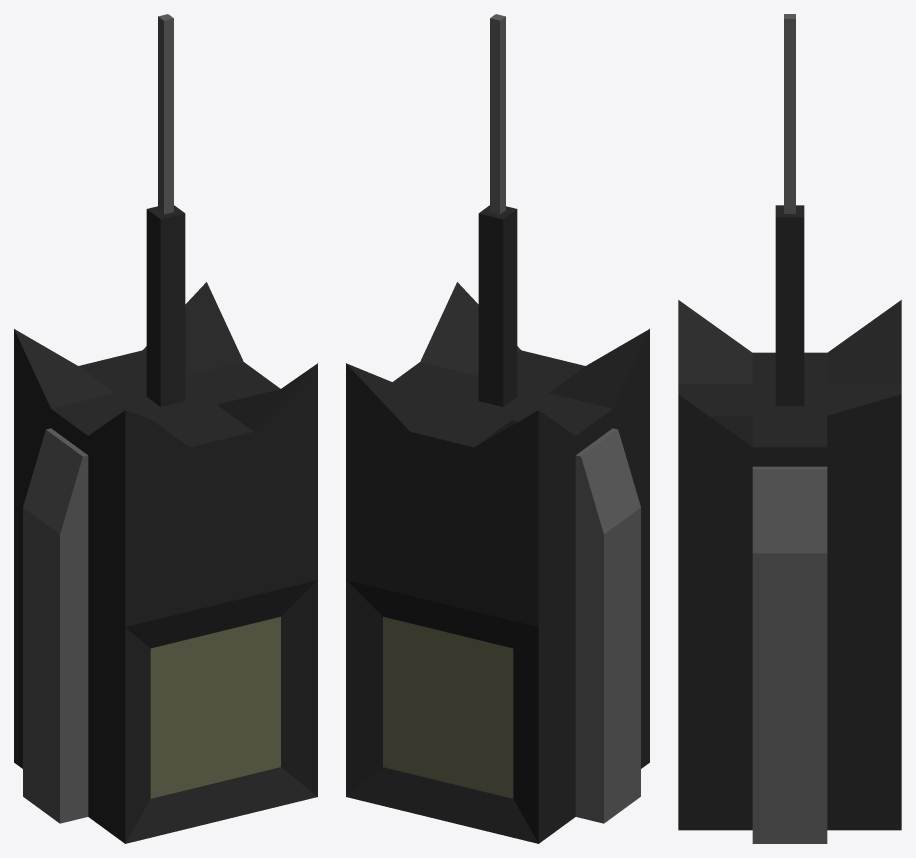
Rendered from building2.fbx.
3 renders of one model, left to right at view 1: azimuth 30°, elevation 25°; view 2: azimuth 150°, elevation 25°; view 3: azimuth 270°, elevation 25°, orthographic.
Parts seen in each view (by area): view 1: building2; view 2: building2; view 3: building2.
Boxes of the visible parts, box(x1,y1,x2,y2) form: building2: box(14, 14, 317, 843); building2: box(346, 14, 649, 843); building2: box(678, 14, 901, 843).
Bounding box in the file's own units: 400 × 1172 × 310.
